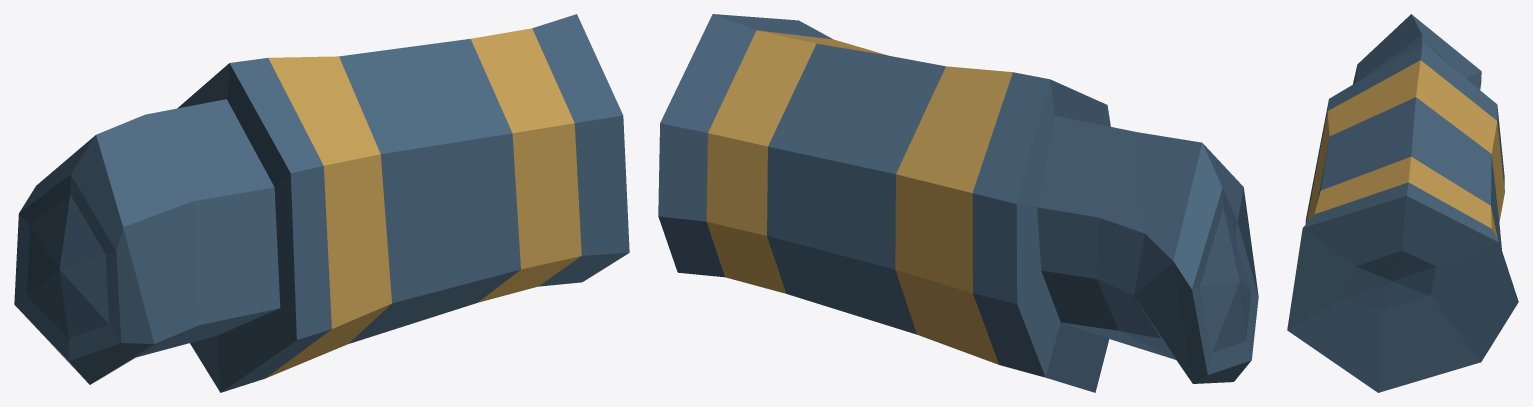
Rendered from Chr_ArmLowerLeft_Female_18_Static.fbx.
The picture shows the model from 3 angles, left to right: view 1: azimuth 30°, elevation 25°; view 2: azimuth 150°, elevation 25°; view 3: azimuth 270°, elevation 25°; orthographic projection. The views are drawn at different scales.
Parts seen in each view (by area): view 1: Chr_ArmLowerLeft_Female_18_Static; view 2: Chr_ArmLowerLeft_Female_18_Static; view 3: Chr_ArmLowerLeft_Female_18_Static.
Boxes of the visible parts, x1,y1,x2,y2 form: Chr_ArmLowerLeft_Female_18_Static: (14, 14, 629, 392); Chr_ArmLowerLeft_Female_18_Static: (658, 14, 1258, 392); Chr_ArmLowerLeft_Female_18_Static: (1287, 14, 1518, 392).
Size of the model in its own units: 0.2926 by 0.1666 by 0.1405.
